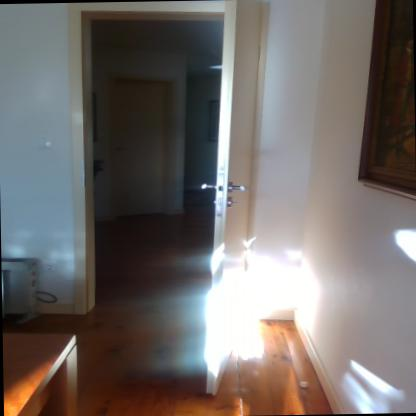open: (69, 0, 283, 395)
